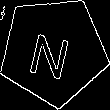N_N: (29, 22, 78, 80)
